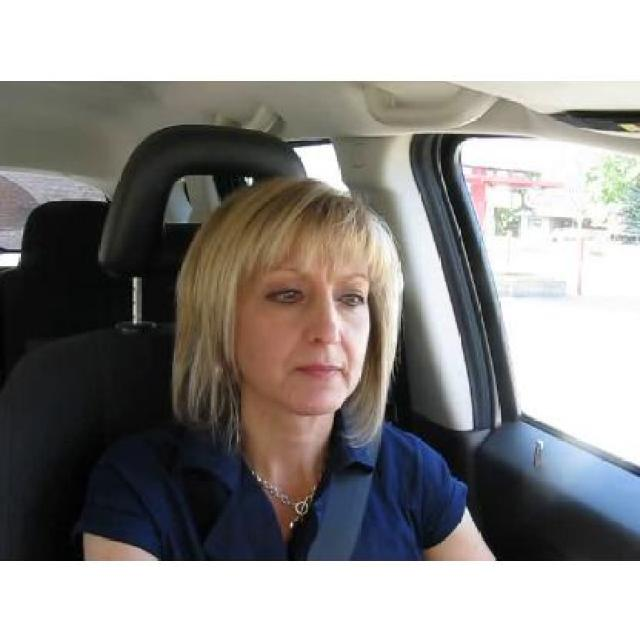attentif: (200, 181, 369, 416)
